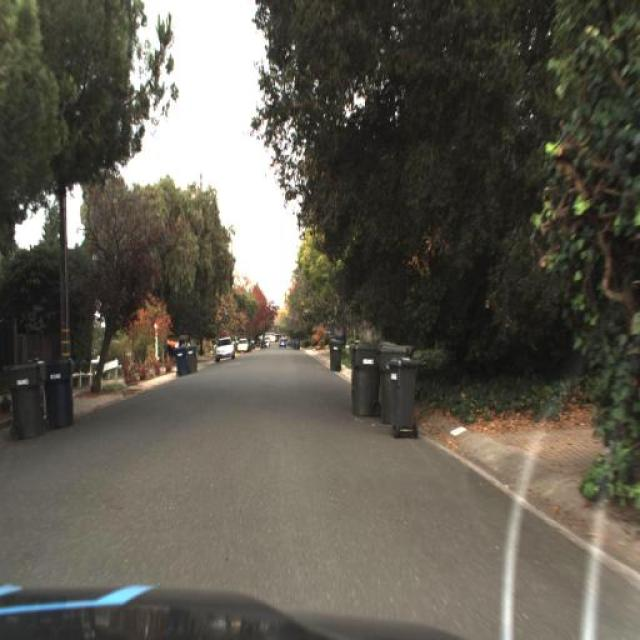car: (212, 332, 238, 363), (214, 334, 235, 360), (162, 331, 180, 357)
